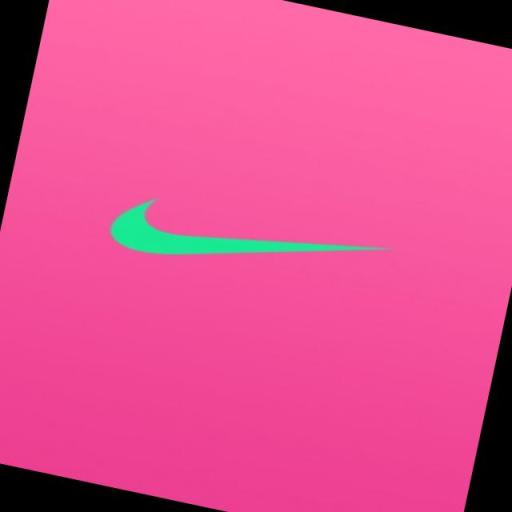Nike: (89, 179, 408, 315)
